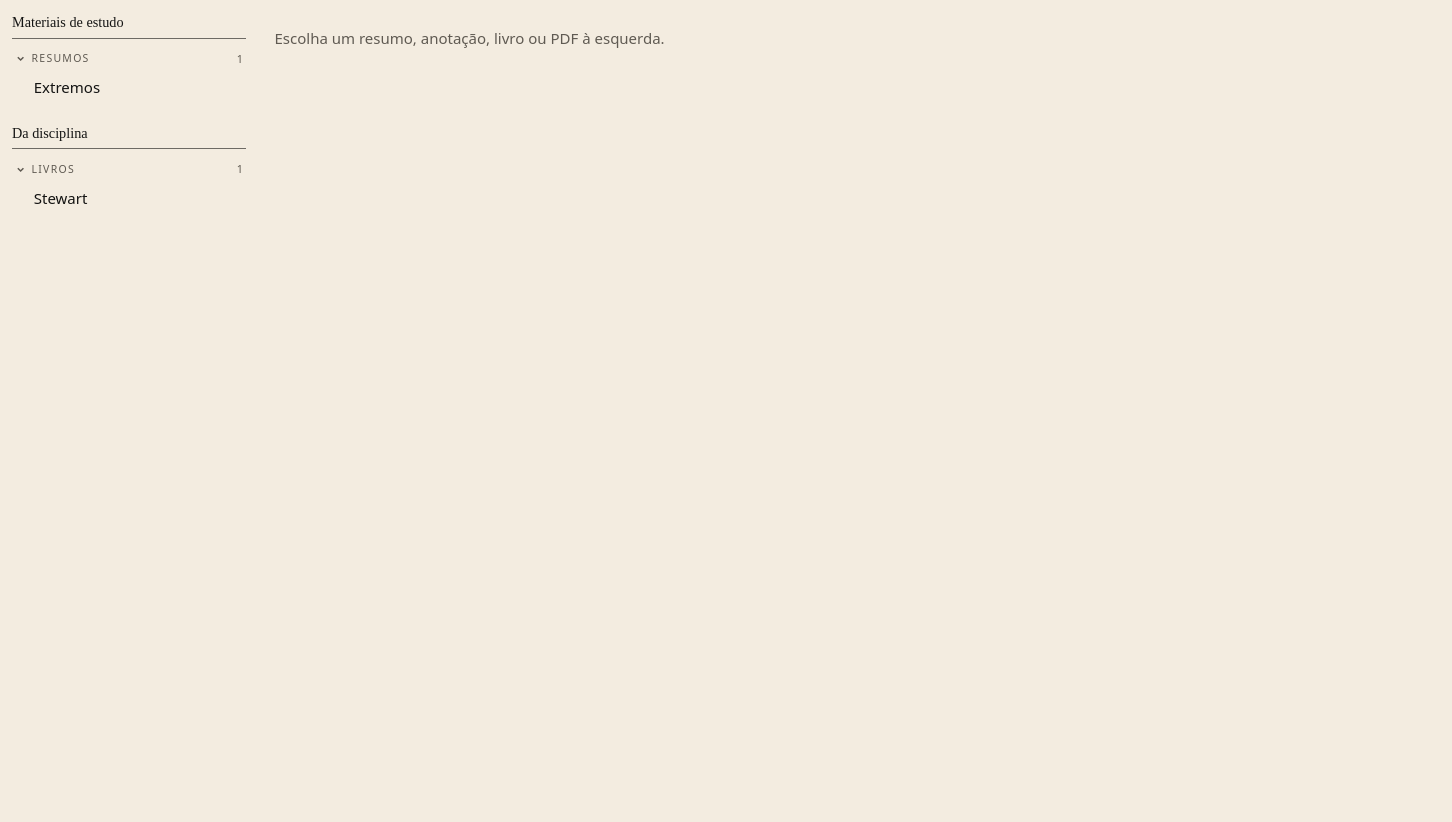
Test: editando, a seção não pode ser trocada (trocar regravaria o .md e perderia o rascunho)
Click the button "Extremos" at {"x": 137, "y": 87}, box [28,73,246,102]
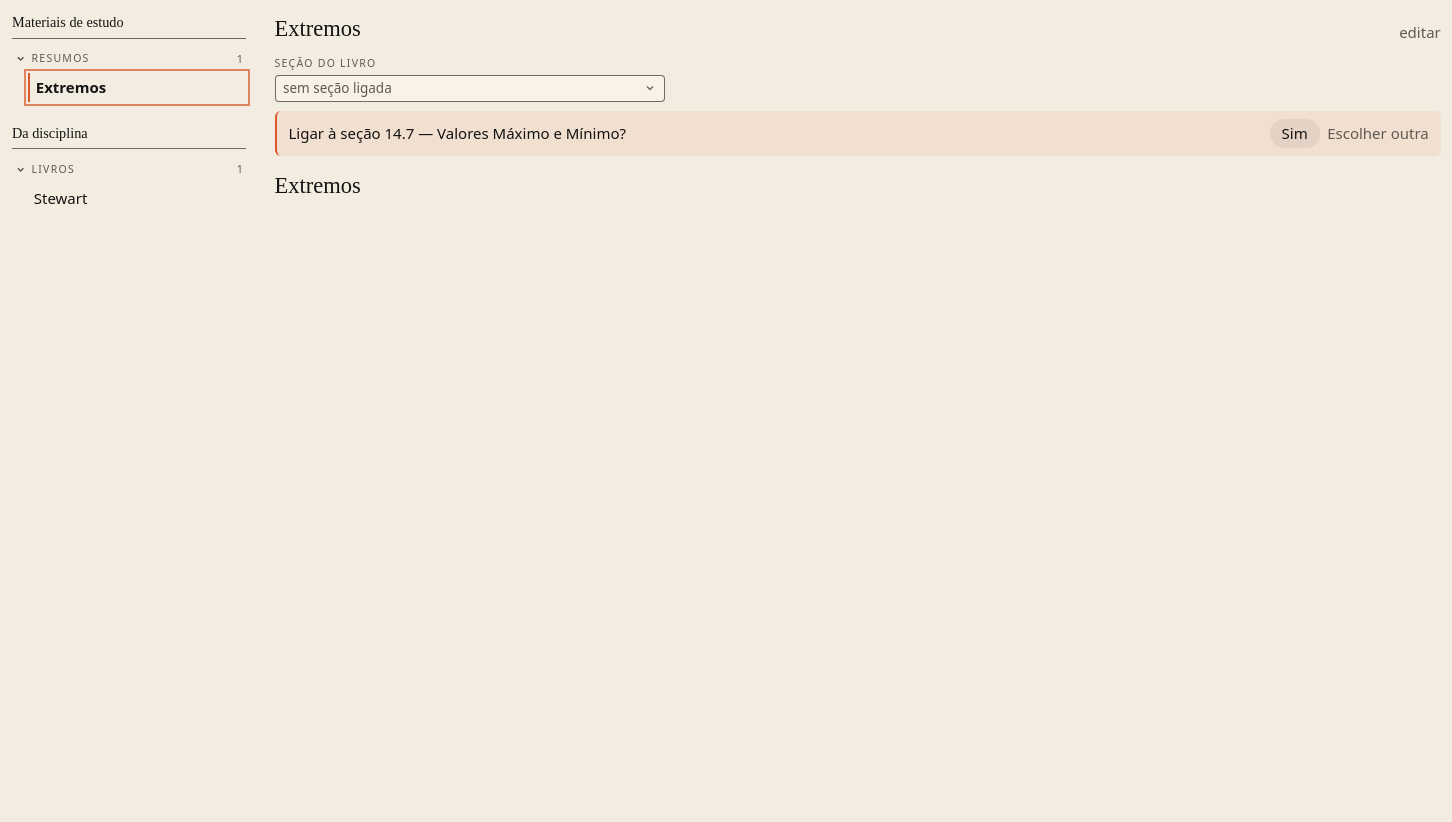
Now the text "Ligar à seção 14.7 — Valores Máximo e Mínimo?" is shown, box [288,122,626,144]
Click the button "editar" at {"x": 1420, "y": 33}, box [1399,21,1441,44]
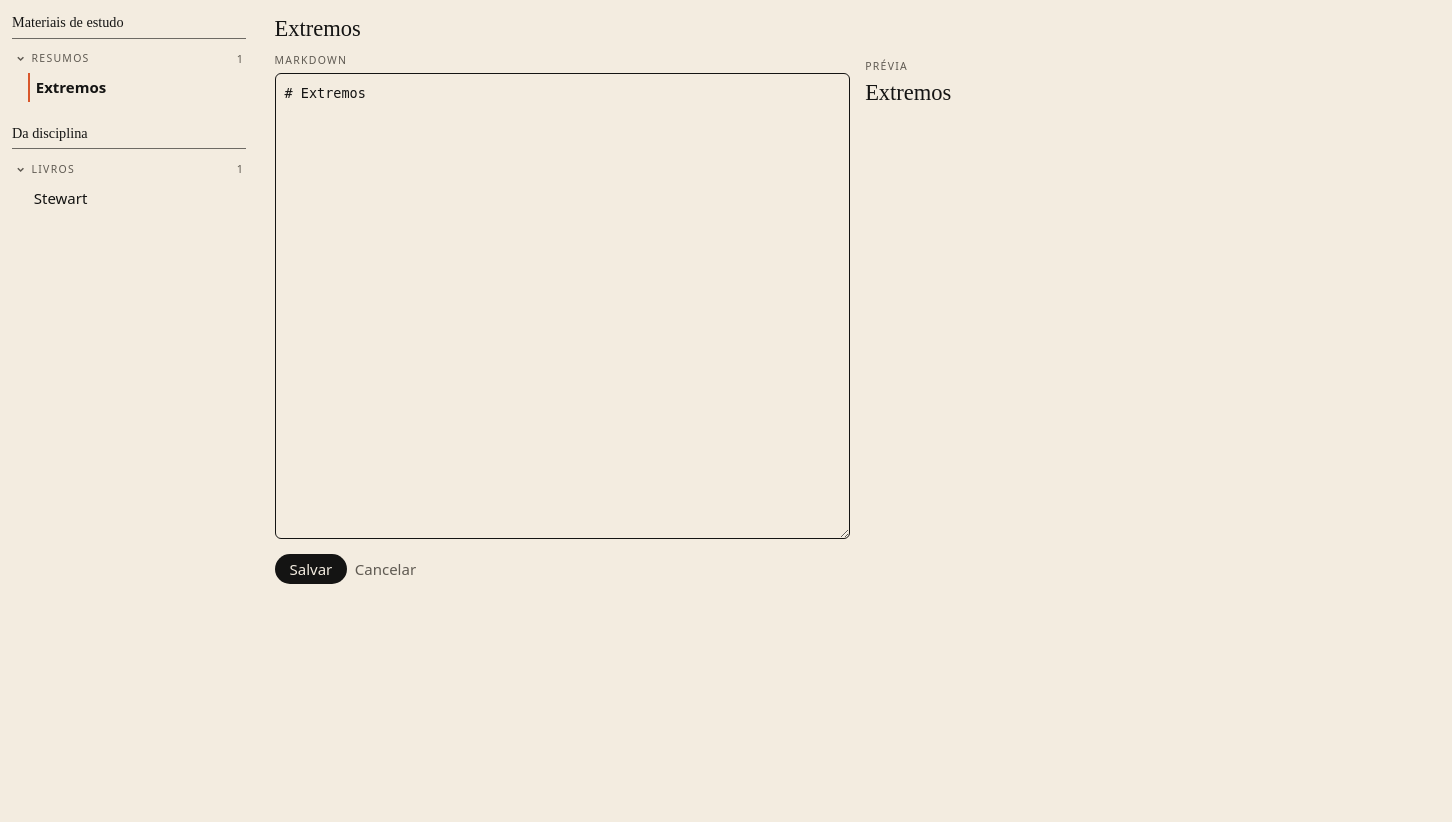
Now the text "Ligar à seção 14.7" is gone
Now the text "Seção do livro" is gone
